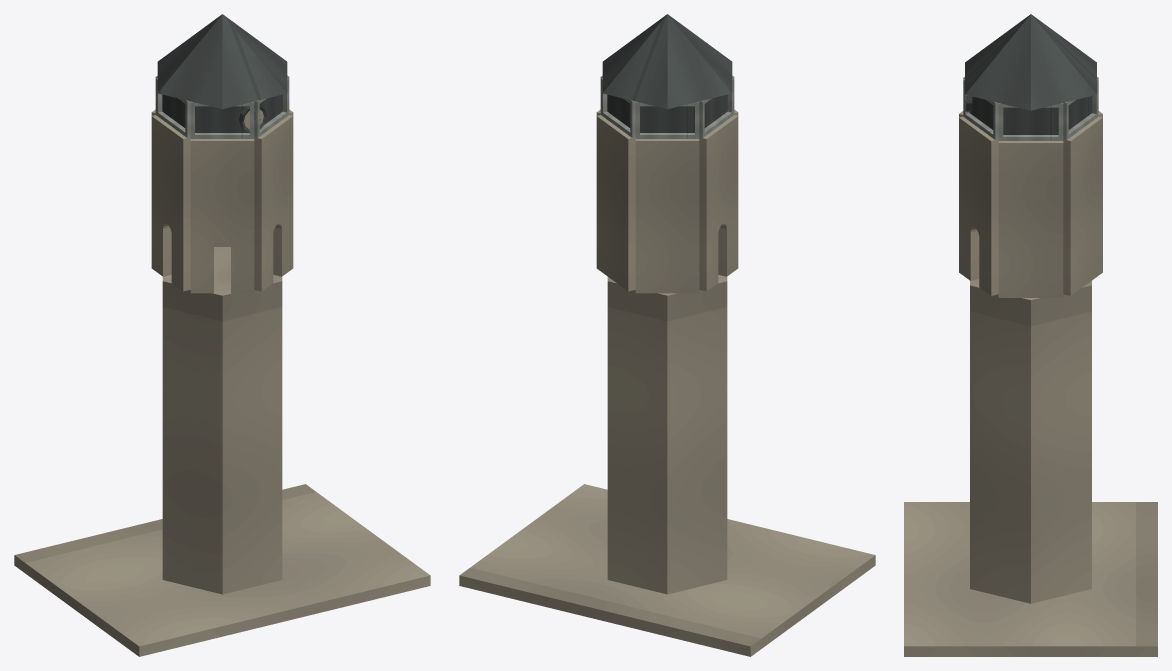
3 renders of one model, left to right at view 1: azimuth 30°, elevation 25°; view 2: azimuth 150°, elevation 25°; view 3: azimuth 270°, elevation 25°, orthographic.
Visible parts, largest first — view 1: pristina; view 2: pristina; view 3: pristina.
Part boxes in pixels (x1,y1,x2,y2): pristina: (14,14,430,656); pristina: (459,14,875,656); pristina: (904,14,1157,656).
Bounding box in the file's own units: 3.5 × 6.45 × 2.6.
1 material, 1 textured.
